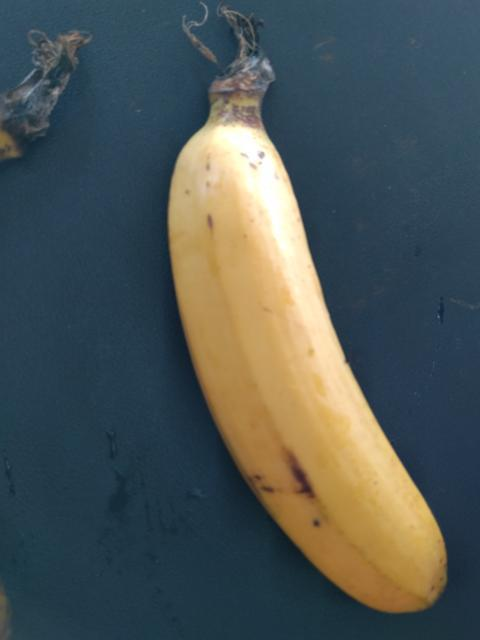freshripe: (165, 122, 452, 625)
